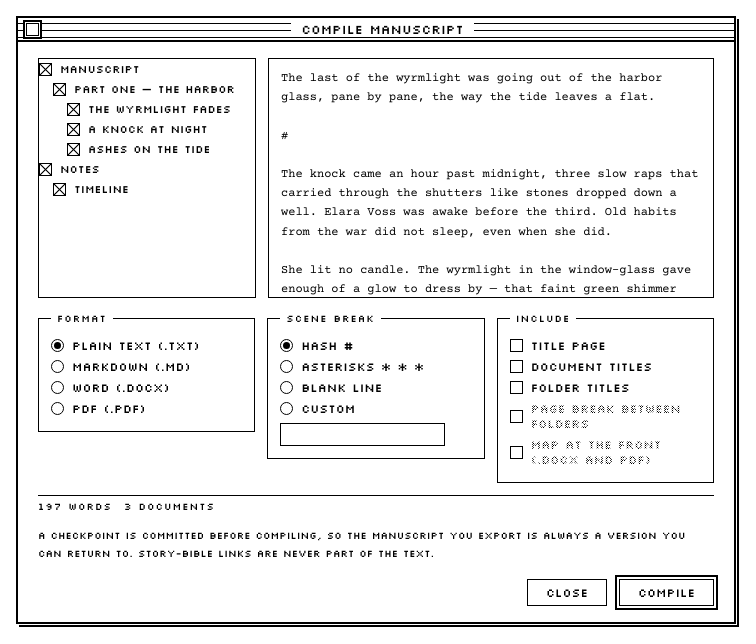
Scenario: compile dialog › commits a checkpoint before it writes anything
The image size is (756, 644).
Expected: the checkbox labelled "Notes" is shown, [39,159,255,179]
What coordinates should you click on to do the following:
click the button "Compile"
I would click on:
 (666, 592)
Its box is [619,579,714,606].
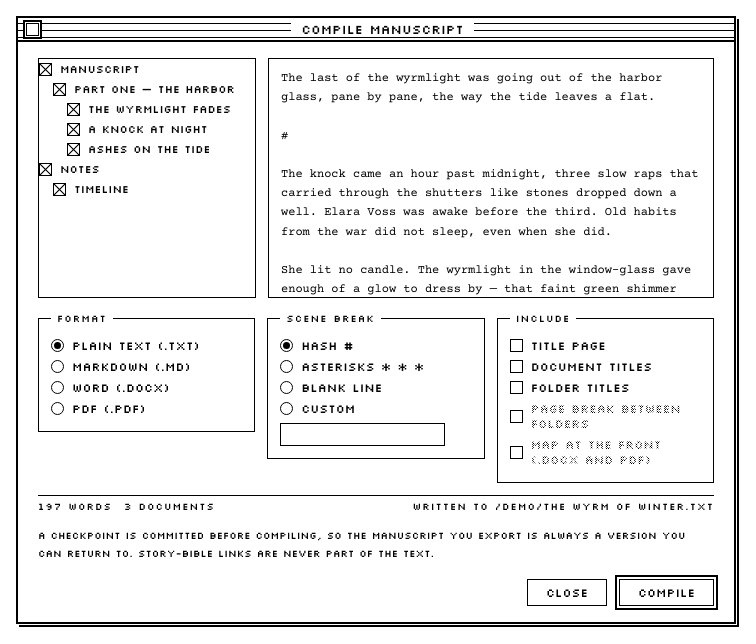
Now the text "WRITTEN TO /demo/The Wyrm of Winter.txt" is shown, box [412,500,714,513]
